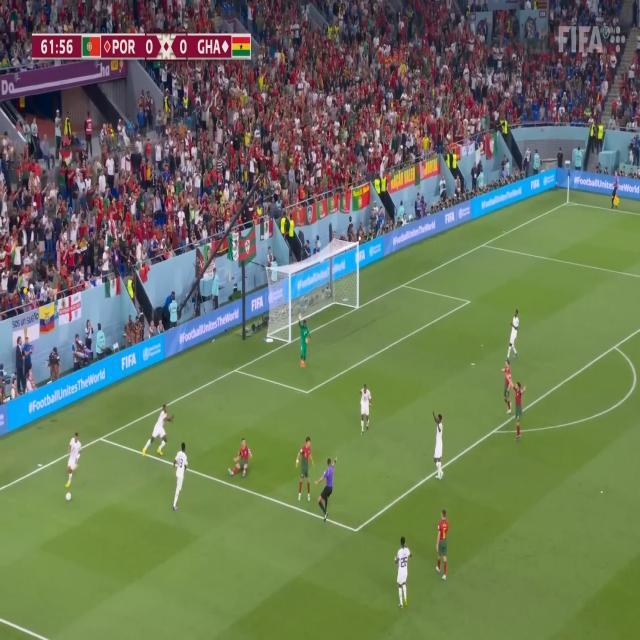football: (62, 490, 79, 504)
